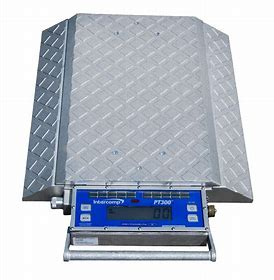Industrial Scale: (20, 13, 254, 263)
